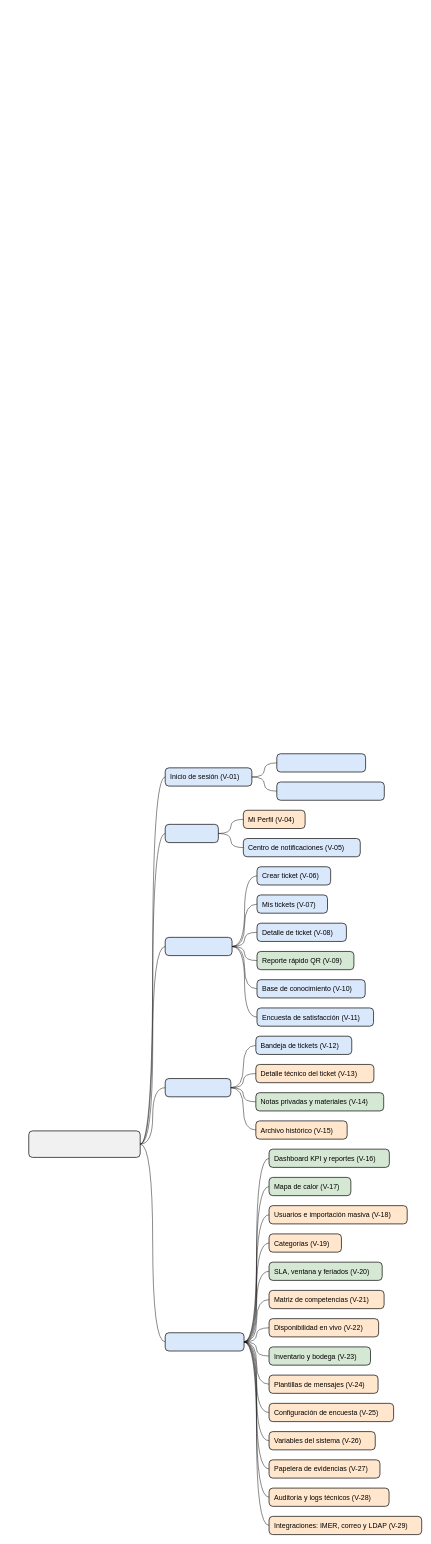
Some shapes in this 431 by 1544 pixel diagram are drawn without their labels. Each missing label, with the centre of its shape:
Consola Técnico: the point at 198,1087
Menú común: the point at 191,833
Panel Administrador: the point at 204,1341
Portal Solicitante: the point at 198,946
Recuperar contraseña (V-03): the point at 330,790
Sistema de Gestión de Tickets Centro Clínico Aconcagua: the point at 84,1144
Verificación 2FA (V-02): the point at 321,762
